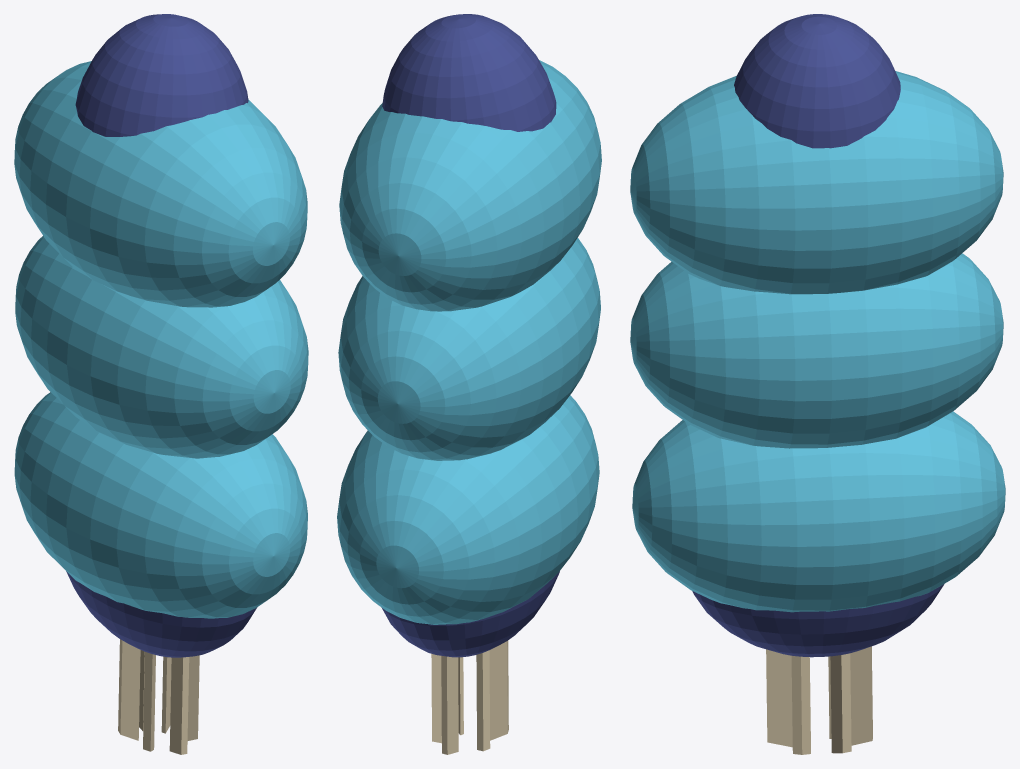
Rendered from kelpsy.fbx.
3 views of the same model, side by side, from view 1: azimuth 30°, elevation 25°; view 2: azimuth 150°, elevation 25°; view 3: azimuth 270°, elevation 25° (orthographic).
Parts seen in each view (by area): view 1: Kelpsy; view 2: Kelpsy; view 3: Kelpsy.
Part boxes in pixels (<box>): Kelpsy: <box>14,14,308,754</box>; Kelpsy: <box>337,14,601,754</box>; Kelpsy: <box>630,14,1005,754</box>.
Size of the model in its own units: 62.37 by 204 by 95.36.
